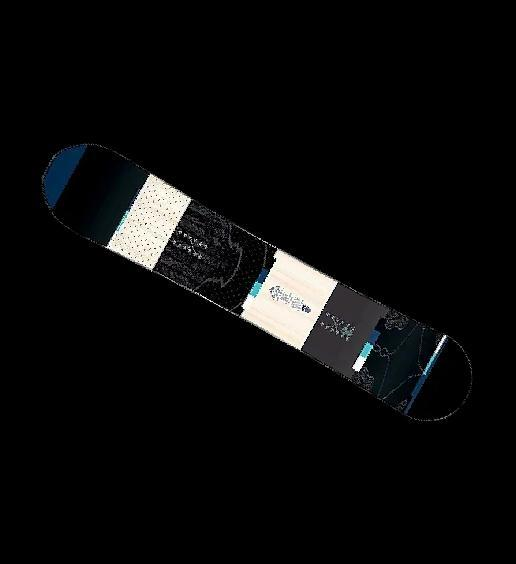Snowboard: (40, 141, 473, 422)
